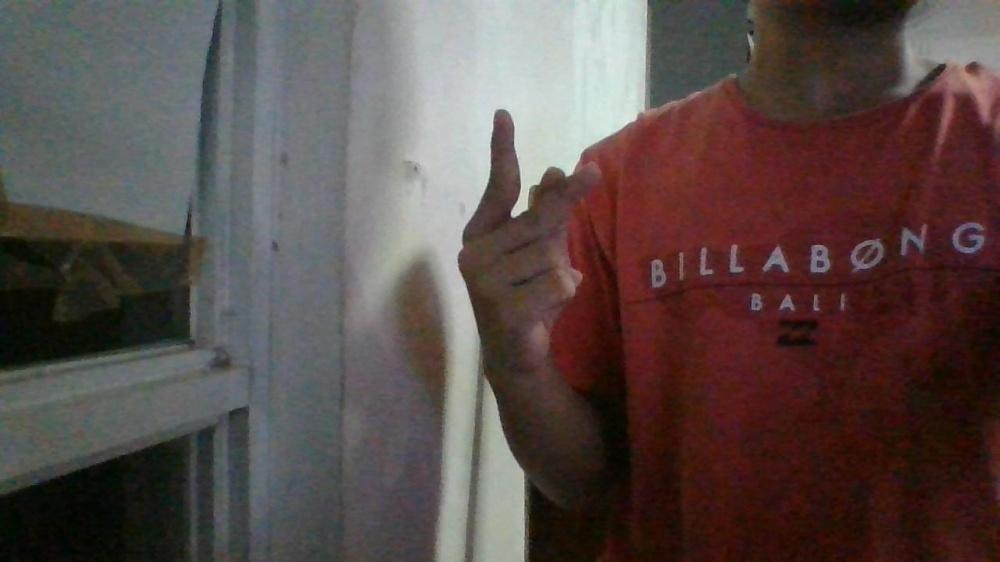k: (456, 107, 602, 377)
